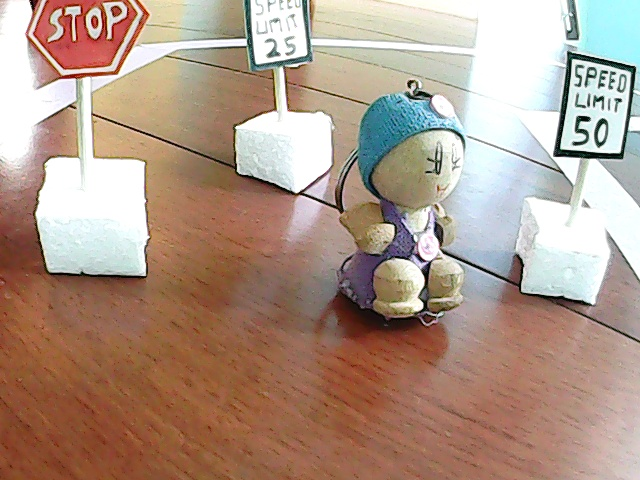pedestrain: (346, 87, 466, 331)
speed_25: (225, 1, 322, 199)
speed_50: (519, 41, 637, 300)
stop: (19, 1, 171, 274)
